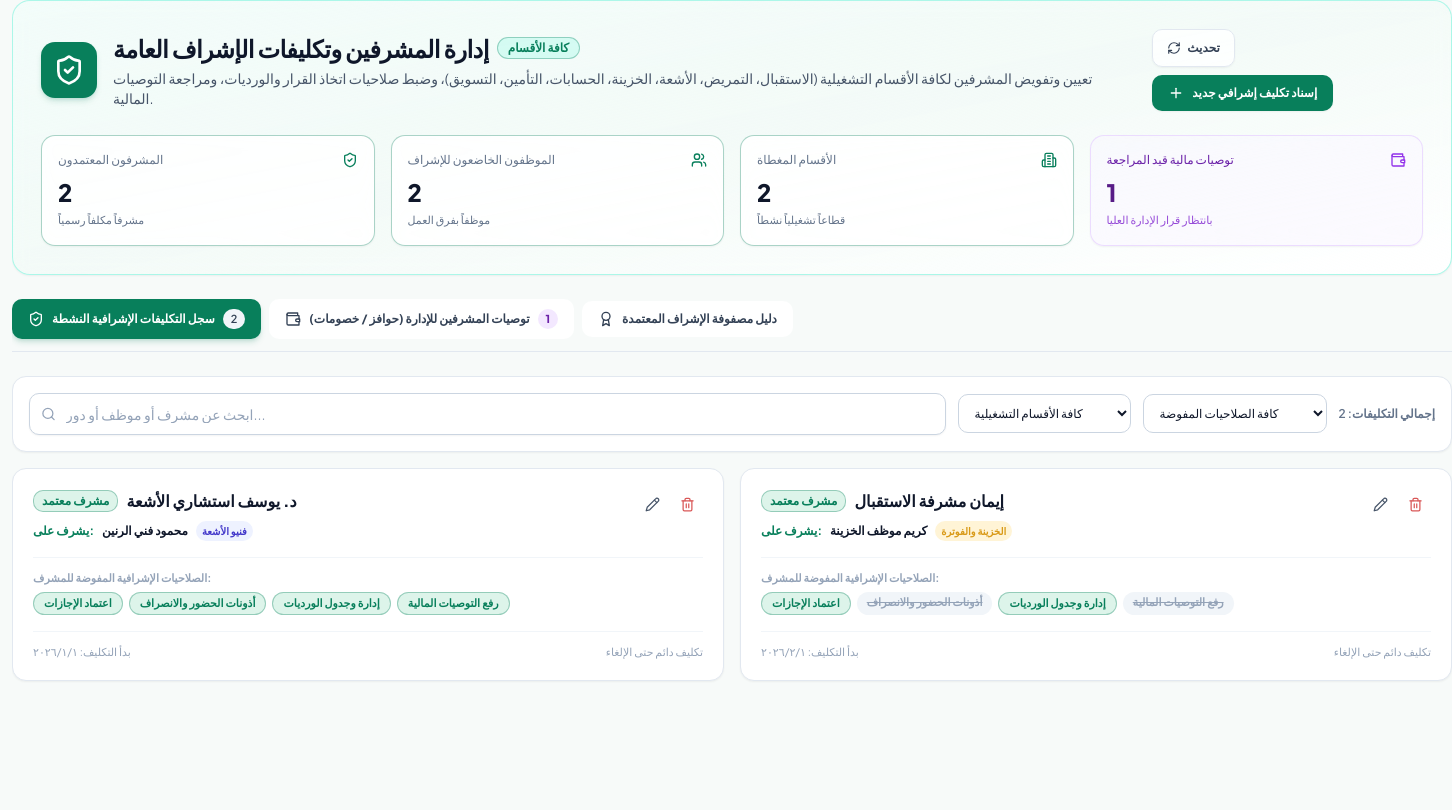
it: ReceptionSupervisorManager (General Supervisor Management) › switches to recommendations tab and allows admin to review pending recommendations
Click the text "توصيات المشرفين للإدارة (حوافز / خصومات)": click(419, 318) [309, 310, 530, 326]
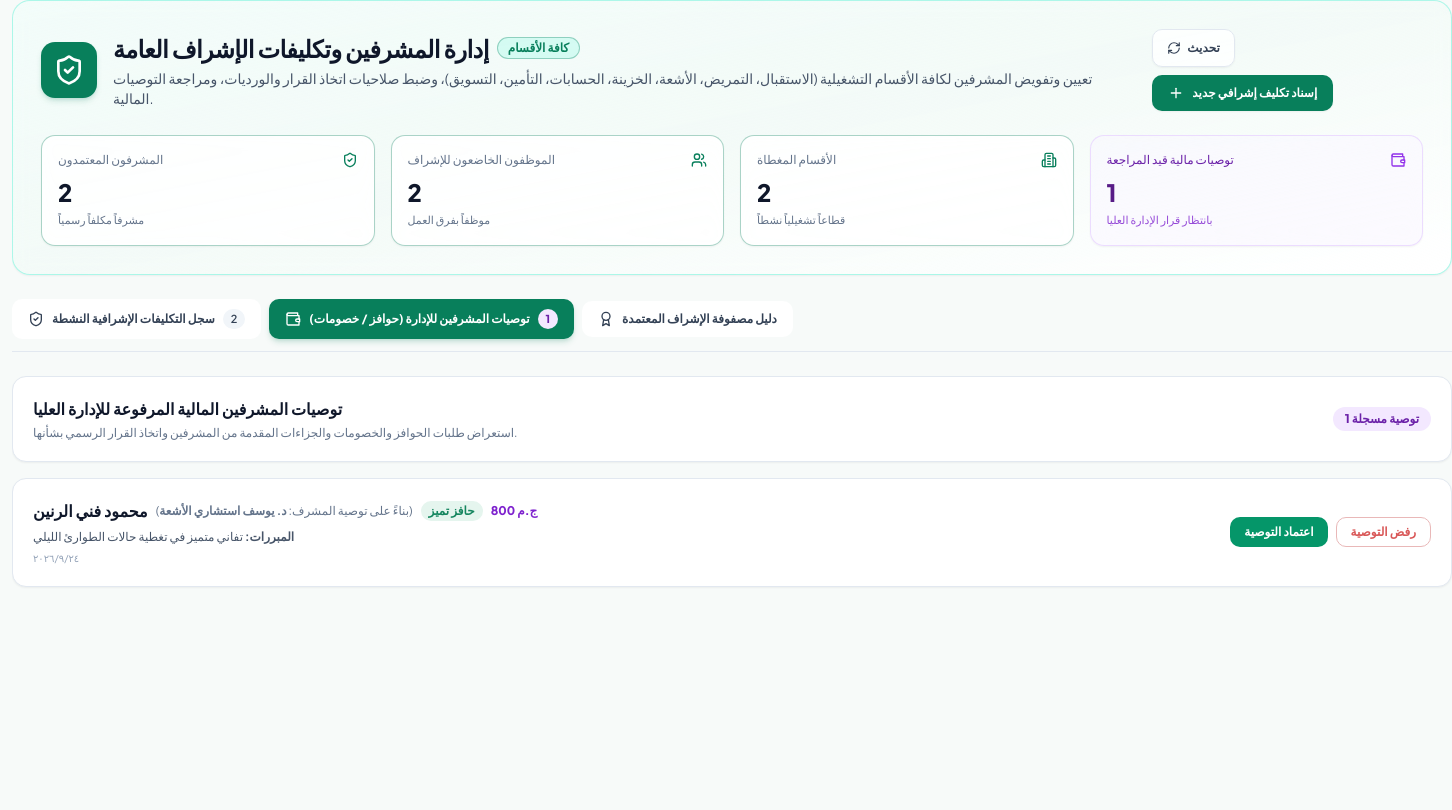
Expected: the heading "توصيات المشرفين المالية المرفوعة للإدارة العليا" is shown, [33, 398, 342, 418]
Expected: the text "تفاني متميز في تغطية حالات الطوارئ الليلي" is shown, [33, 528, 243, 544]
Expected: the button "اعتماد التوصية" is shown, [1230, 517, 1328, 547]
